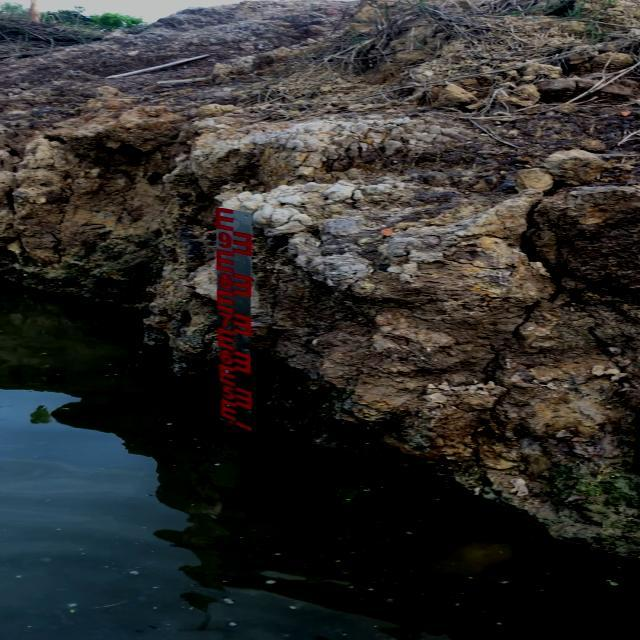ruler: (204, 192, 287, 440)
value: (216, 305, 235, 332), (214, 228, 234, 252), (216, 270, 235, 294), (218, 344, 235, 368), (220, 383, 238, 404)
